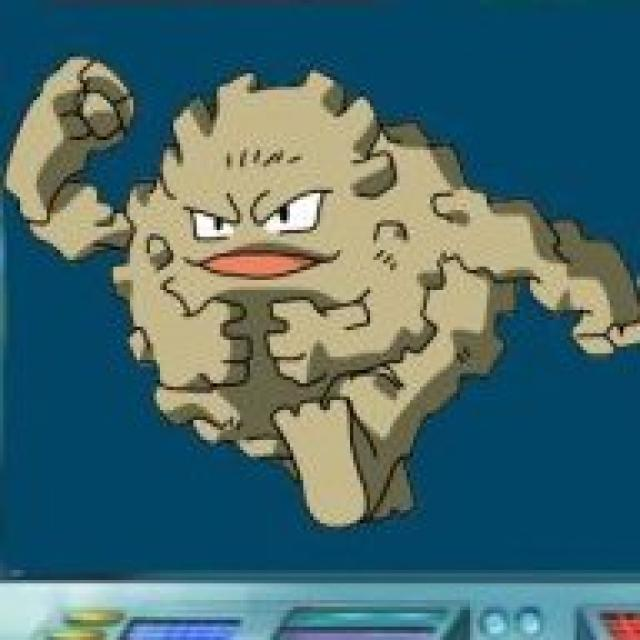Graveler: (53, 46, 561, 504)
